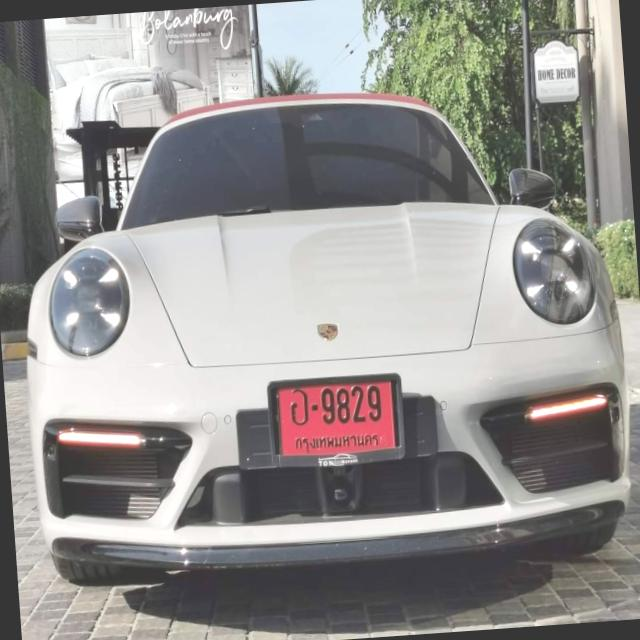license_plate: (259, 364, 414, 474)
